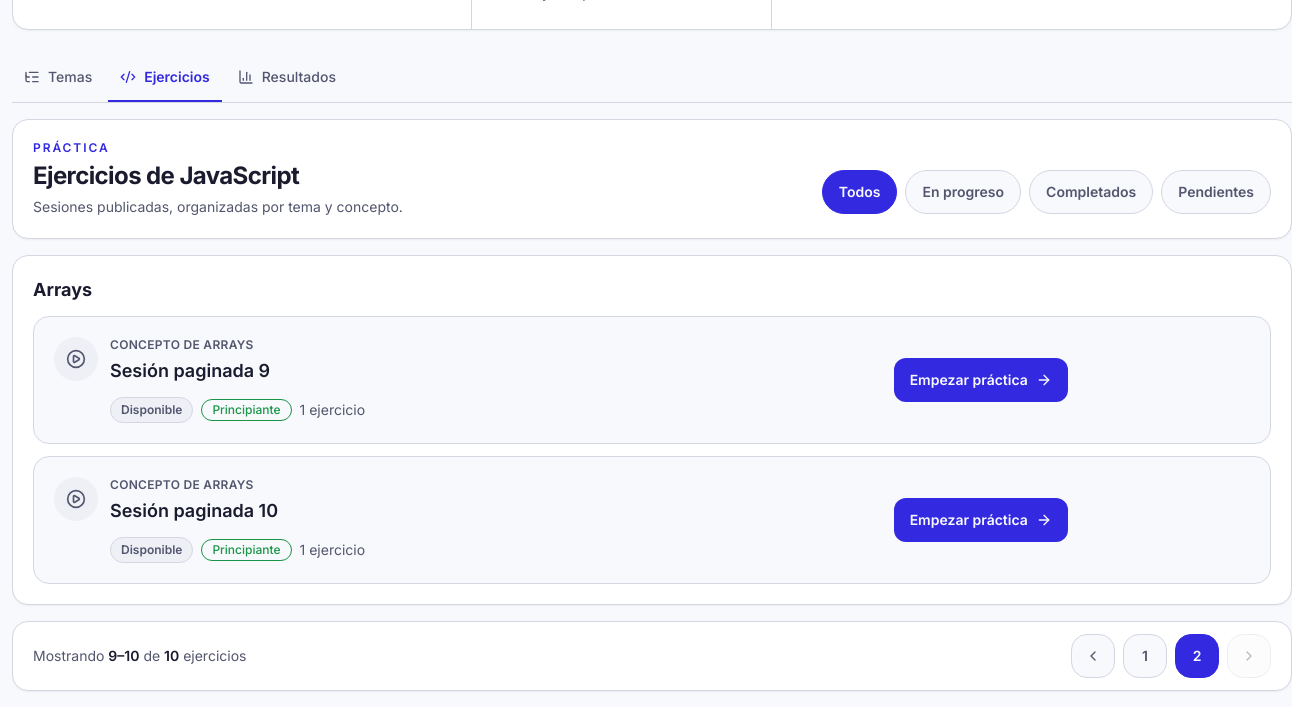
Test: TechnologyPage (T056) › pagina los ejercicios filtrados de ocho en ocho y reinicia al cambiar filtro
(page scrolled)
Expected: the heading "Sesión paginada 9" is shown, left=110, top=360, right=270, bottom=381
Expected: the navigation bar named "Paginación de ejercicios" shows "Mostrando 9–10 de 10 ejercicios", left=12, top=621, right=1291, bottom=691
Click the button named "Página anterior": point(1093, 656) left=1071, top=634, right=1115, bottom=678
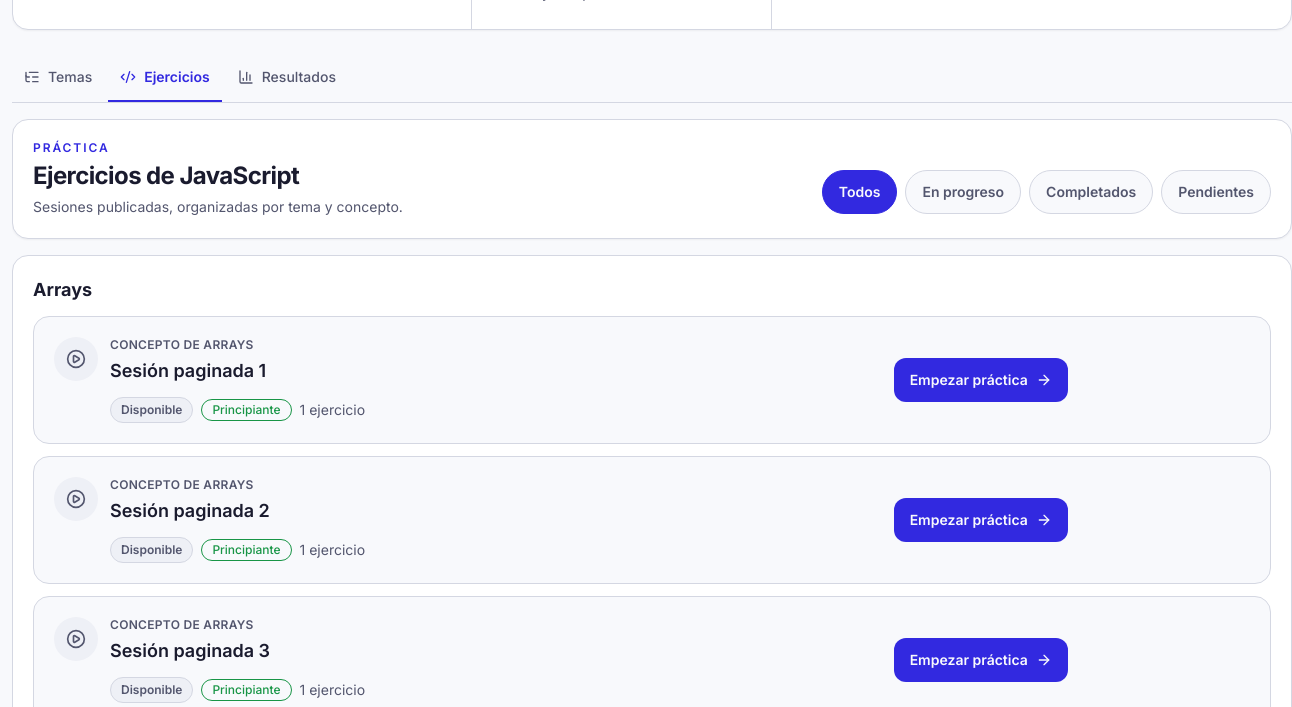
Expected: the heading "Sesión paginada 1" is shown, left=110, top=360, right=266, bottom=381
Expected: the heading "Sesión paginada 9" is gone
Click the button "Completados": point(1091, 192) left=1029, top=170, right=1153, bottom=214
(page scrolled)
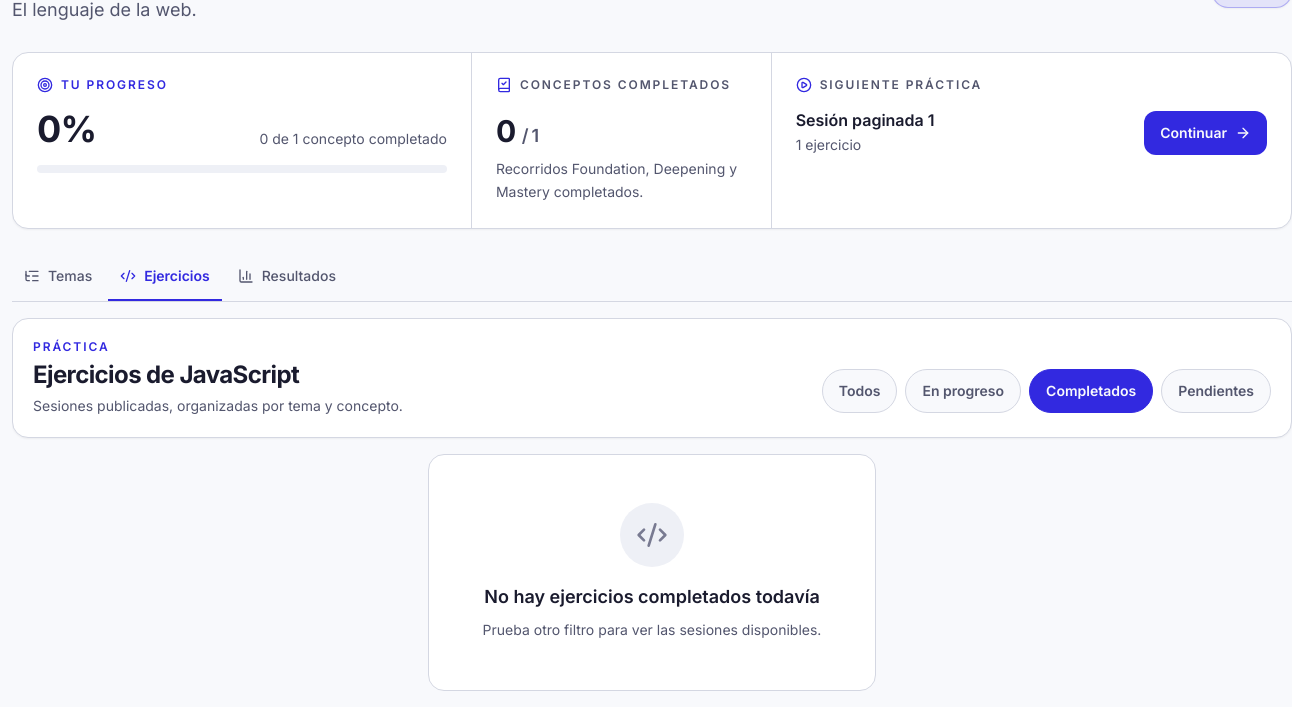
Expected: the heading "No hay ejercicios completados todavía" is shown, left=483, top=583, right=821, bottom=611
Click the button "Todos": point(860, 391) left=822, top=369, right=898, bottom=413
(page scrolled)
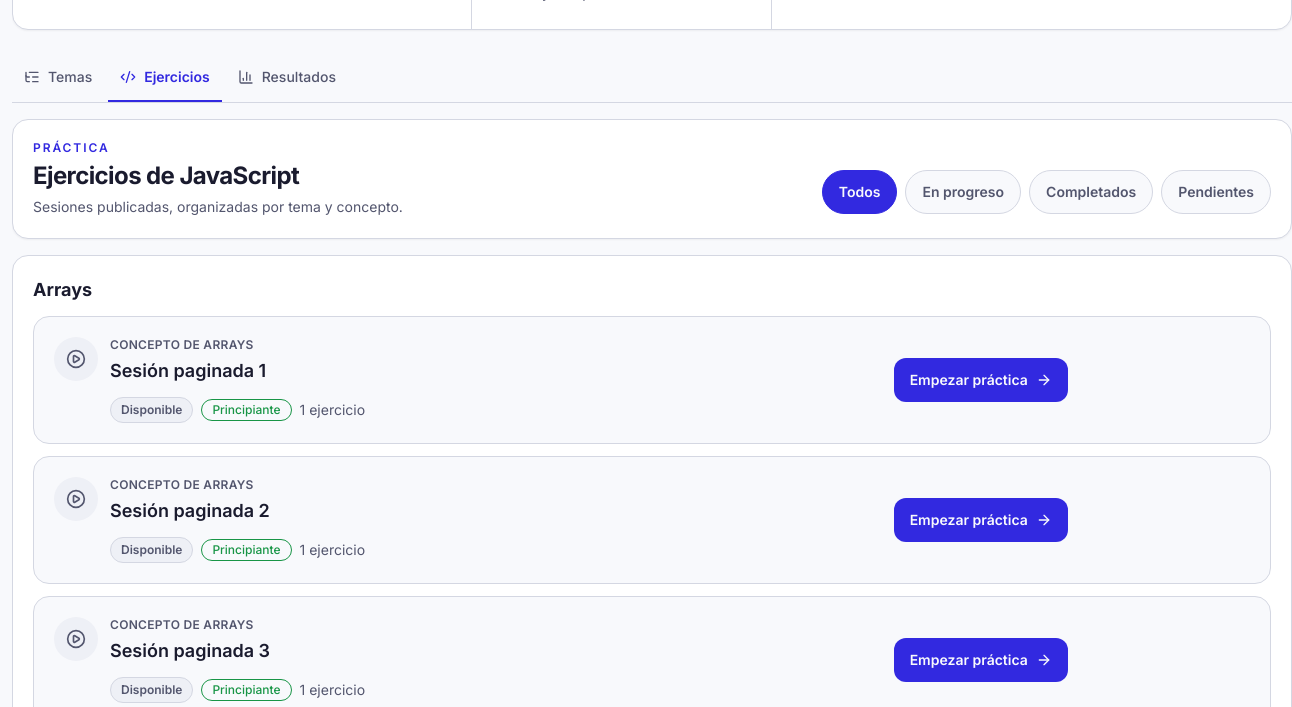
Expected: the heading "Sesión paginada 9" is not shown
Expected: the heading "Sesión paginada 1" is shown, left=110, top=360, right=266, bottom=381
